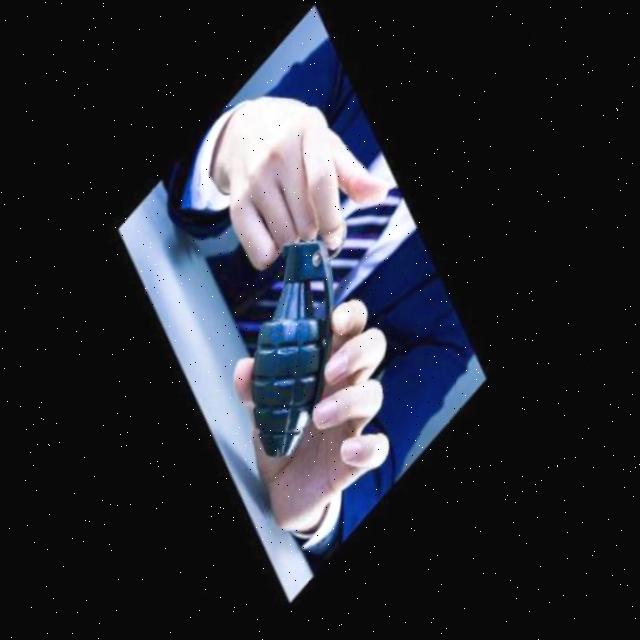grenade: (237, 228, 353, 468)
